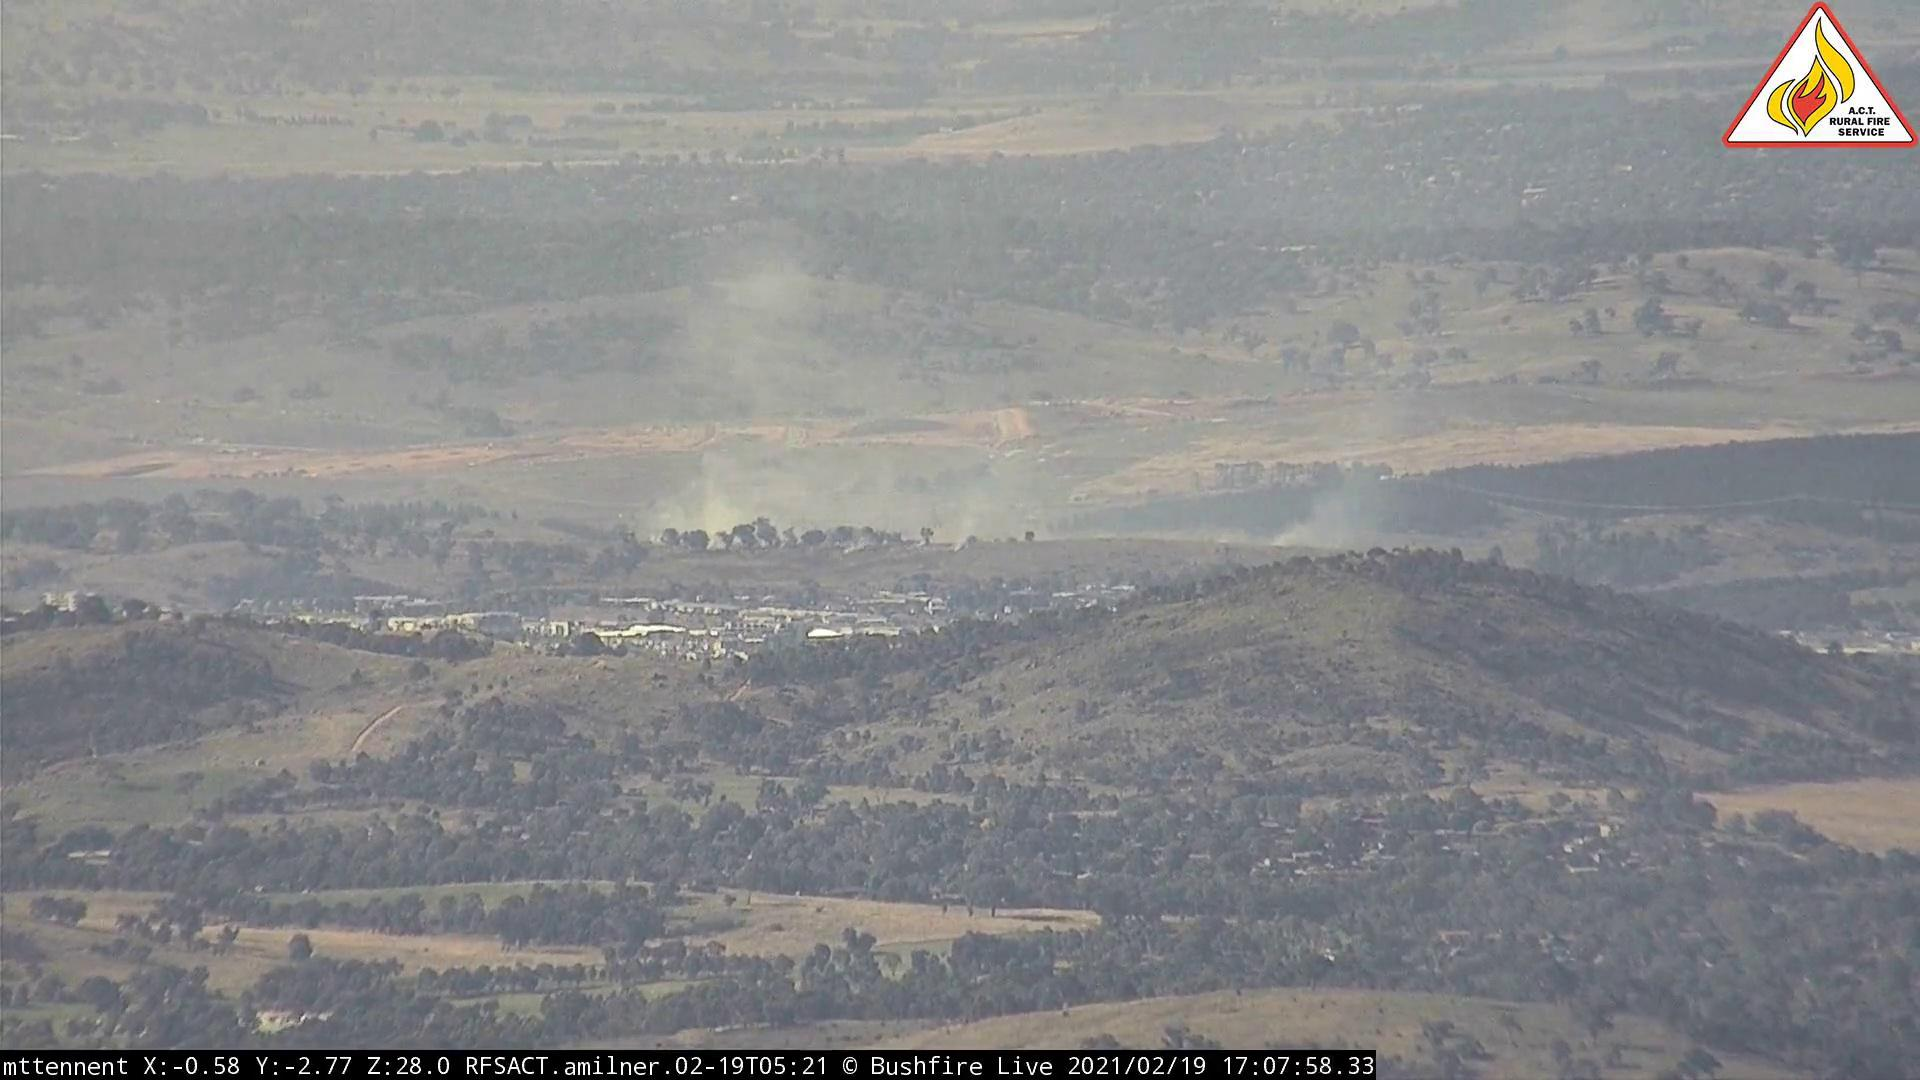Smoke: (636, 219, 1021, 556), (1253, 418, 1437, 567)
